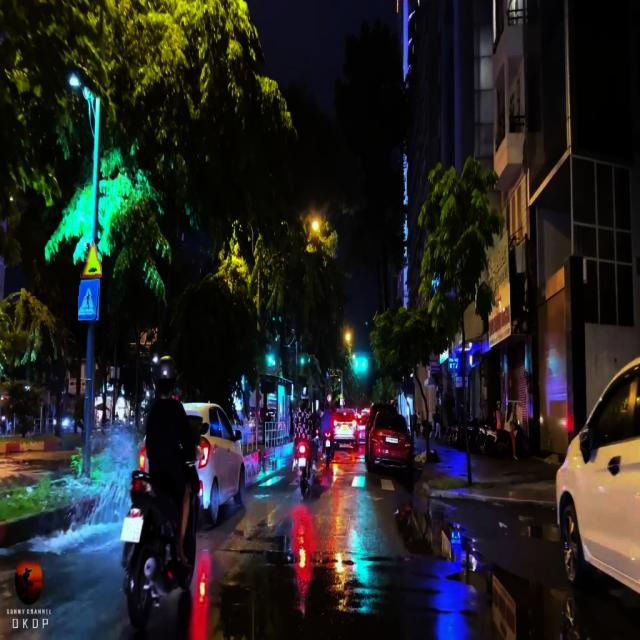duong_co_song_map_mo_nhan_tao: (79, 239, 102, 277)
duong_nguoi_di_bo_sang_ngang: (78, 279, 100, 321)
